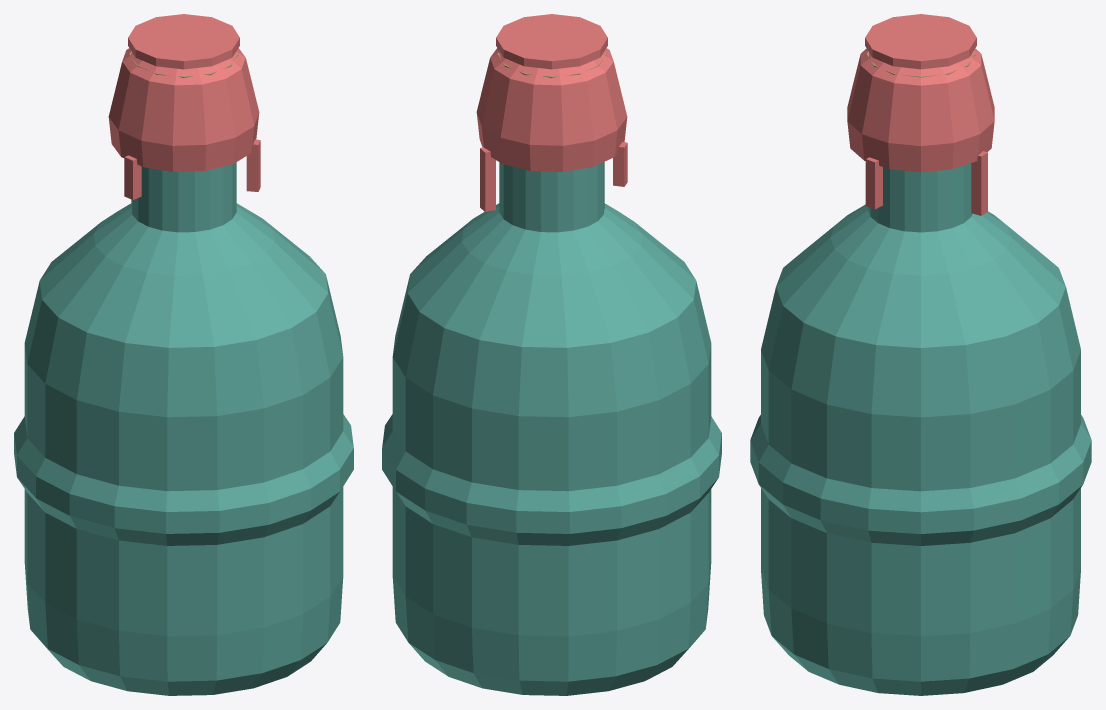
Rendered from Item_TonicBottle_AMF_T4.glb.
3 renders of one model, left to right at view 1: azimuth 30°, elevation 25°; view 2: azimuth 150°, elevation 25°; view 3: azimuth 270°, elevation 25°, orthographic.
Visible parts, largest first — view 1: Item_TonicBottle_AMF_T4; view 2: Item_TonicBottle_AMF_T4; view 3: Item_TonicBottle_AMF_T4.
Part boxes in pixels (left/top/right/bottom): Item_TonicBottle_AMF_T4: left=14, top=14, right=353, bottom=695; Item_TonicBottle_AMF_T4: left=382, top=14, right=721, bottom=695; Item_TonicBottle_AMF_T4: left=750, top=14, right=1091, bottom=695.
Size of what is drawn, in the model's own units: 0.113 by 0.219 by 0.113.
